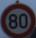Speed Limit -80-: (0, 0, 35, 37)
